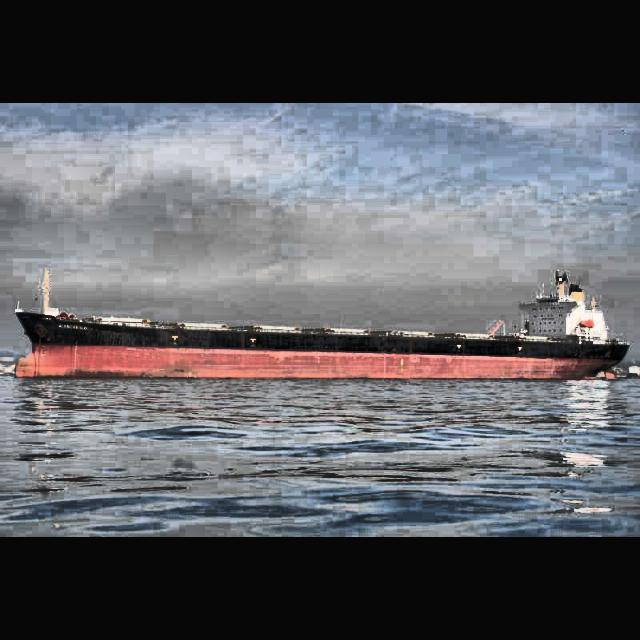bulk_carrier: (12, 266, 632, 380)
